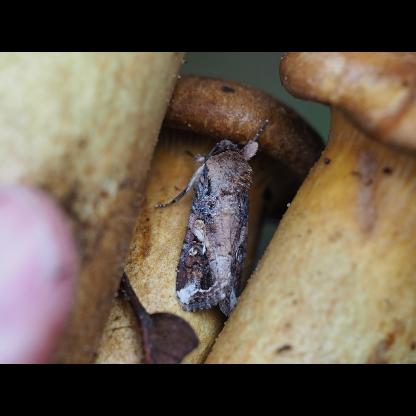Fall Armyworm Moth: (152, 116, 274, 320)
